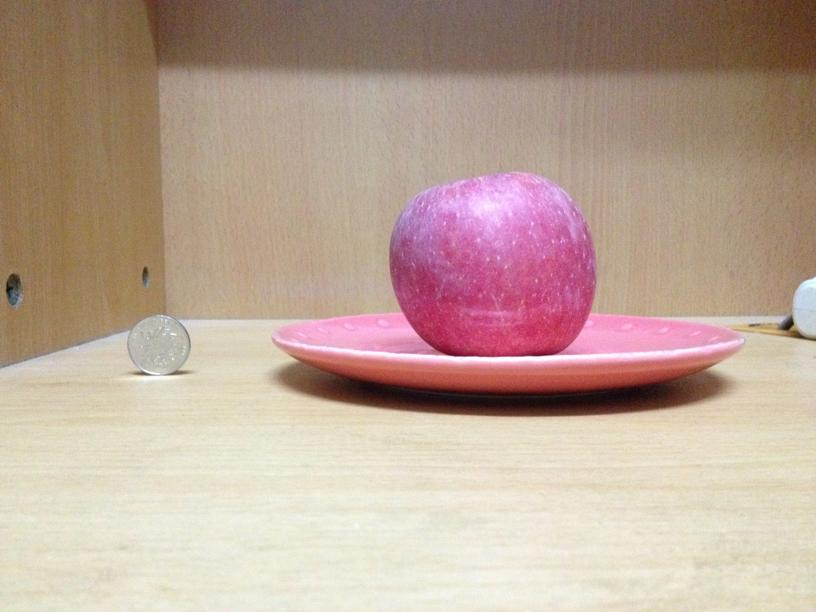apple: (381, 173, 597, 354)
coin: (127, 313, 188, 375)
